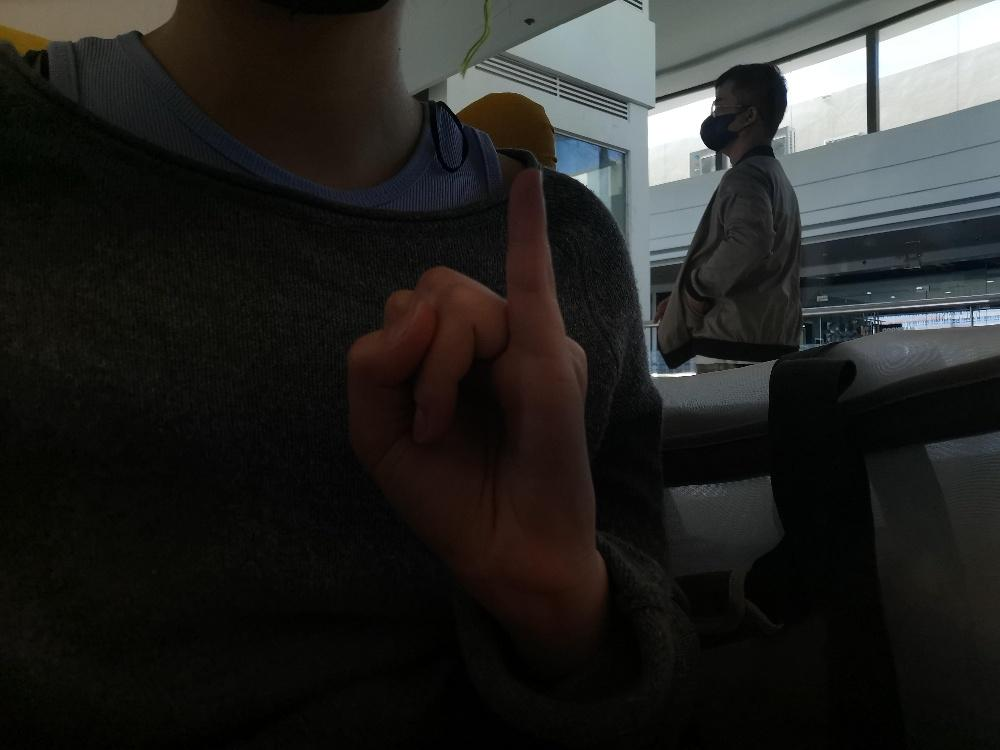i: (343, 164, 598, 595)
